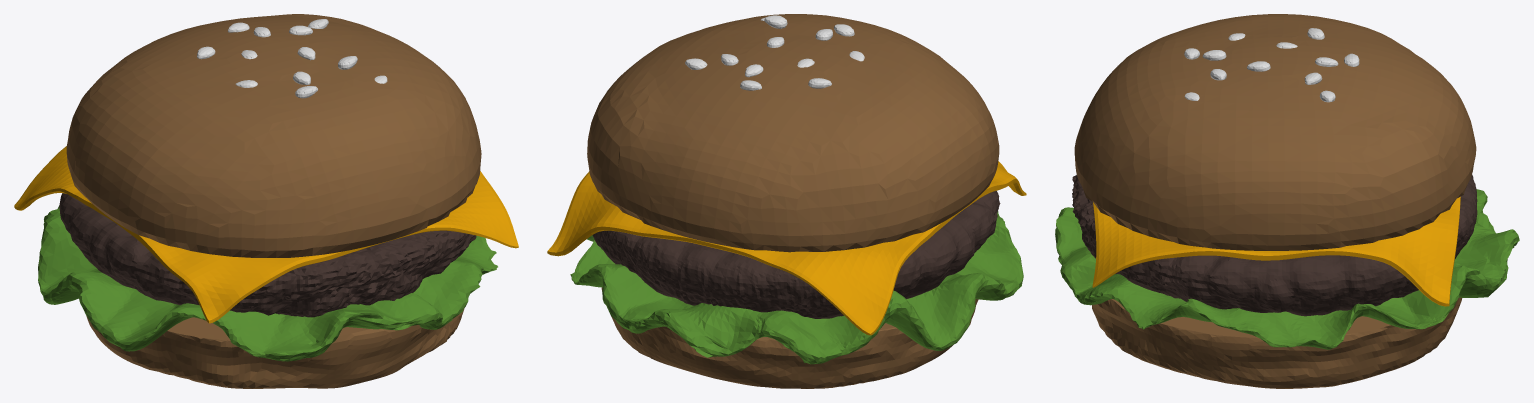
File: 1747992024860-burger_0001.glb
3 views of the same model, side by side, from view 1: azimuth 30°, elevation 25°; view 2: azimuth 150°, elevation 25°; view 3: azimuth 270°, elevation 25° (orthographic).
Visible parts, largest first — view 1: top, vegetable, meat, lower, cheese, sesame seed; view 2: top, vegetable, meat, cheese, lower, sesame seed; view 3: top, lower, vegetable, meat, cheese, sesame seed.
Part boxes in pixels (box(x1,y1,x2,y2)): top: box(66, 14, 481, 257); vegetable: box(38, 205, 497, 361); meat: box(59, 193, 476, 317); lower: box(86, 308, 464, 388); cheese: box(14, 146, 518, 323); sesame seed: box(197, 19, 387, 98); top: box(587, 14, 999, 252); vegetable: box(570, 211, 1023, 364); meat: box(592, 191, 1000, 318); cheese: box(547, 161, 1026, 335); lower: box(601, 287, 978, 388); sesame seed: box(685, 15, 864, 90); top: box(1074, 14, 1476, 250); lower: box(1091, 297, 1462, 388); vegetable: box(1055, 189, 1519, 349); meat: box(1072, 174, 1477, 316); cheese: box(1092, 196, 1460, 306); sesame seed: box(1184, 28, 1359, 102).
Size of the model in its own units: 0.9062 by 0.6088 by 0.9309.
